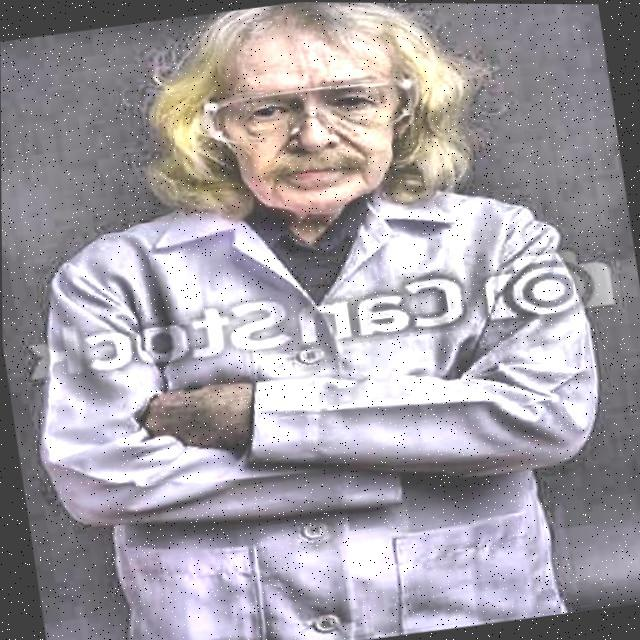goggles_on: (142, 0, 503, 132), (194, 72, 432, 152)
